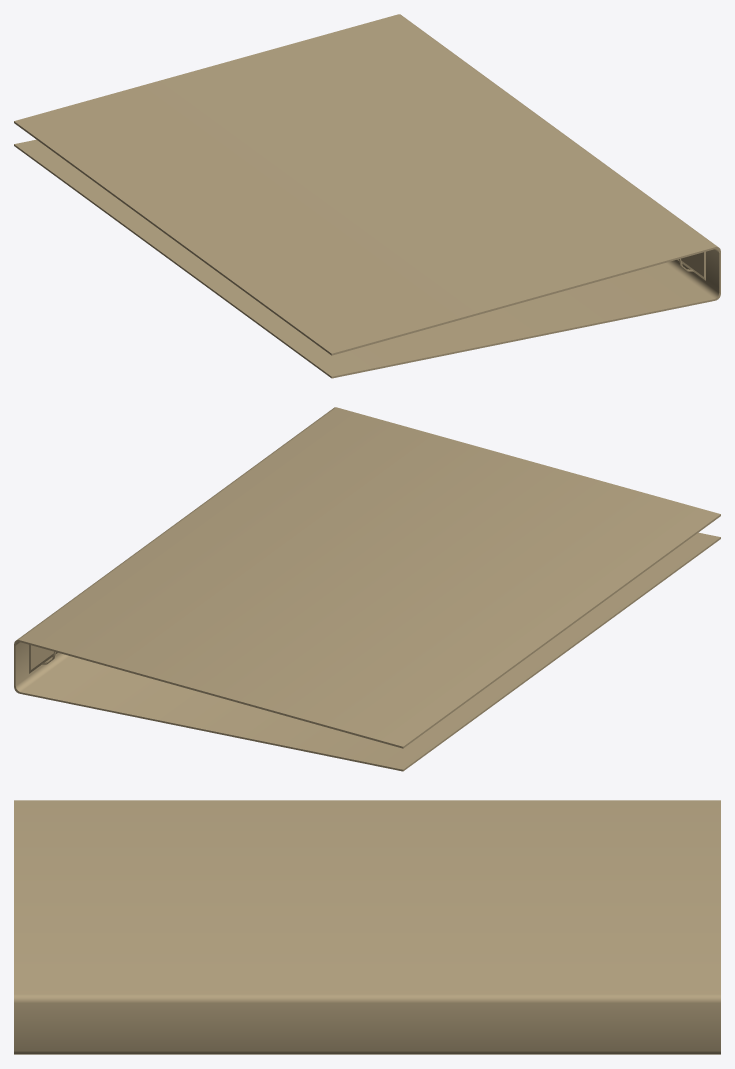
File: mdl_cardbinder.fbx
3 views of the same model, one above another, from view 1: azimuth 30°, elevation 25°; view 2: azimuth 150°, elevation 25°; view 3: azimuth 270°, elevation 25° (orthographic). The views are drawn at different scales.
Parts seen in each view (by area): view 1: mdl_cardbinder; view 2: mdl_cardbinder; view 3: mdl_cardbinder.
Part boxes in pixels (bbox=[...]): mdl_cardbinder: bbox=[14, 14, 720, 378]; mdl_cardbinder: bbox=[14, 407, 720, 771]; mdl_cardbinder: bbox=[14, 800, 720, 1054].
Size of the model in its own units: 25.57 by 3.37 by 36.16.
